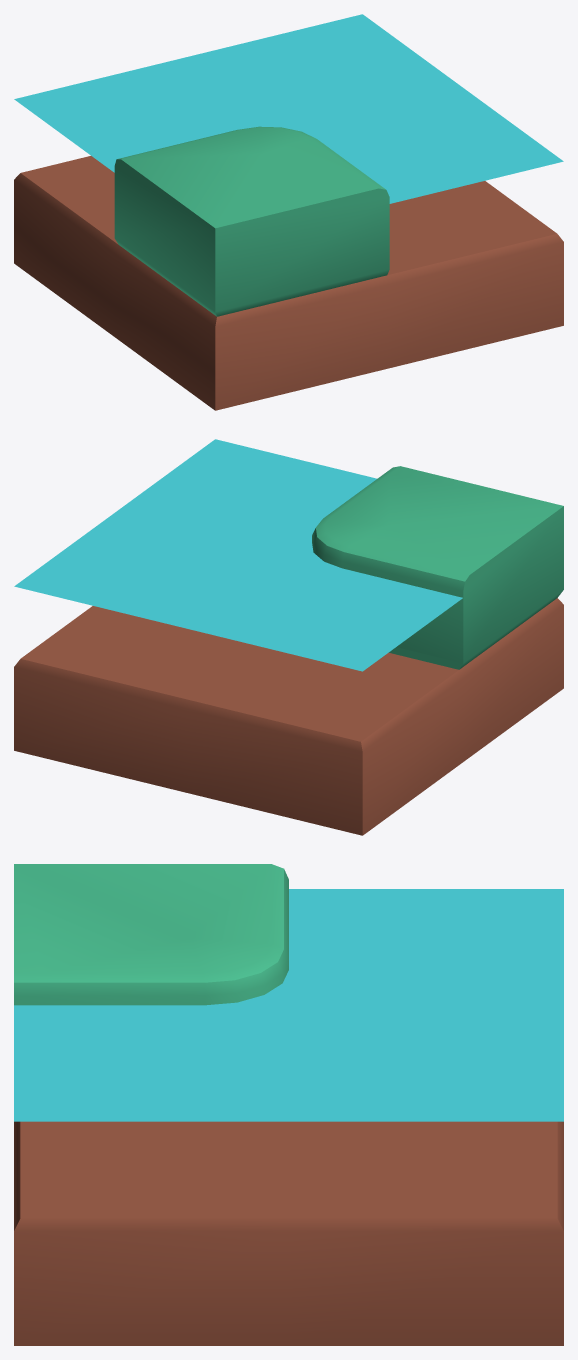
Rendered from square_forest_waterOuterCorner_noSides.glb.
3 views of the same model, one above another, from view 1: azimuth 30°, elevation 25°; view 2: azimuth 150°, elevation 25°; view 3: azimuth 270°, elevation 25° (orthographic). The views are drawn at different scales.
Visible parts, largest first — view 1: square_forest_waterOuterCorner_noSides; view 2: square_forest_waterOuterCorner_noSides; view 3: square_forest_waterOuterCorner_noSides.
Boxes of the visible parts, x1,y1,x2,y2 form: square_forest_waterOuterCorner_noSides: (14, 14, 563, 410); square_forest_waterOuterCorner_noSides: (14, 439, 563, 835); square_forest_waterOuterCorner_noSides: (14, 864, 563, 1345).
Bounding box in the file's own units: 3.82 × 1.91 × 3.82.
